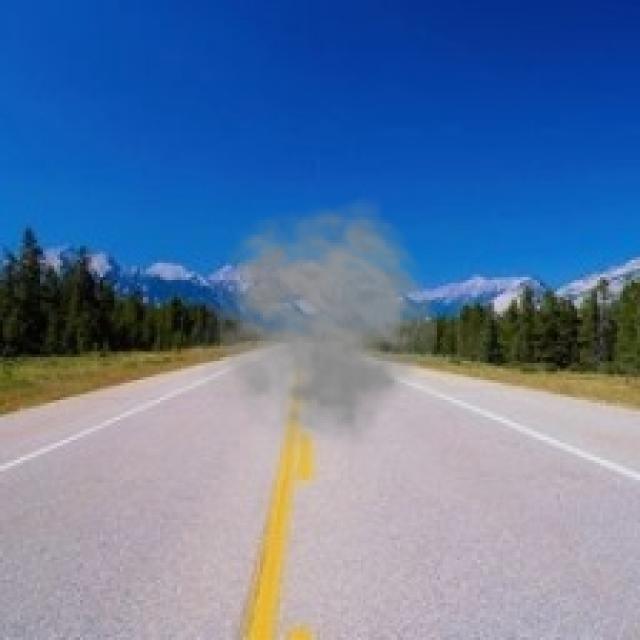Smoke: (188, 197, 440, 463)
